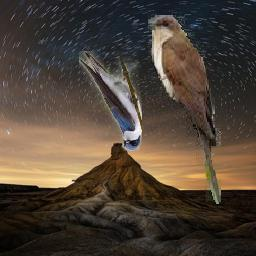Cuckoo: (147, 15, 222, 205)
Swallow: (80, 51, 143, 151)
